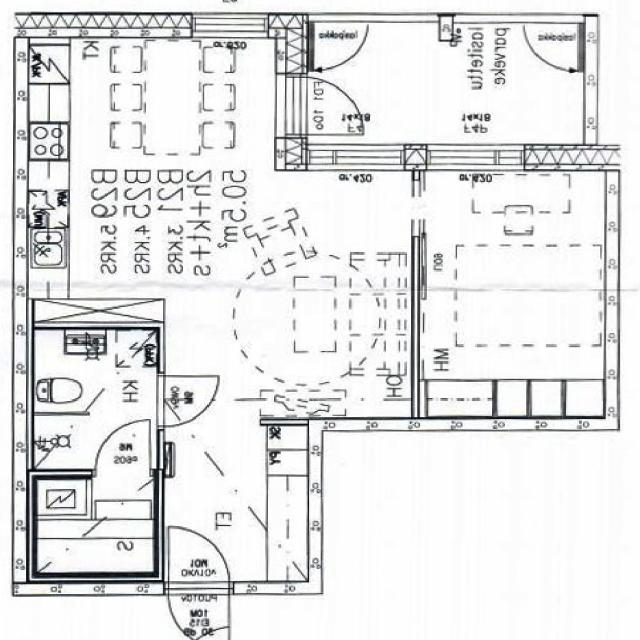door: (286, 77, 364, 135), (168, 527, 230, 594), (168, 581, 230, 640), (158, 375, 220, 426), (96, 420, 150, 475)
